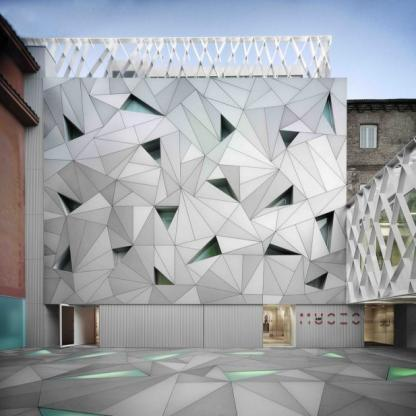Building Outline: (24, 36, 416, 348)
Door Hole: (44, 304, 100, 348), (262, 304, 296, 348), (365, 304, 394, 348)
Facade: (24, 77, 347, 348)
Floor: (24, 174, 347, 300)
Floor Slab: (24, 300, 347, 304), (24, 170, 347, 174)
Ground Floor: (24, 304, 416, 348)
Top Floor: (24, 77, 347, 170)
Window: (191, 240, 222, 263), (123, 98, 161, 115), (266, 188, 290, 208), (316, 214, 330, 247), (305, 273, 326, 289), (158, 212, 176, 230), (61, 197, 81, 212), (156, 269, 174, 285), (323, 98, 332, 128), (264, 246, 292, 255), (148, 148, 161, 166), (216, 186, 234, 199), (72, 123, 84, 139), (222, 125, 231, 141), (117, 250, 128, 263), (62, 258, 72, 272), (282, 138, 295, 148)
Window Hole: (119, 93, 165, 116), (187, 235, 222, 265), (315, 210, 334, 254), (206, 178, 239, 202), (266, 185, 293, 208), (63, 114, 84, 143), (154, 206, 179, 230), (140, 138, 161, 166), (57, 192, 82, 215), (323, 91, 336, 135), (53, 245, 72, 272), (112, 245, 133, 268), (220, 113, 236, 143), (264, 243, 301, 255), (305, 272, 328, 290), (154, 266, 174, 285), (279, 131, 299, 148)
